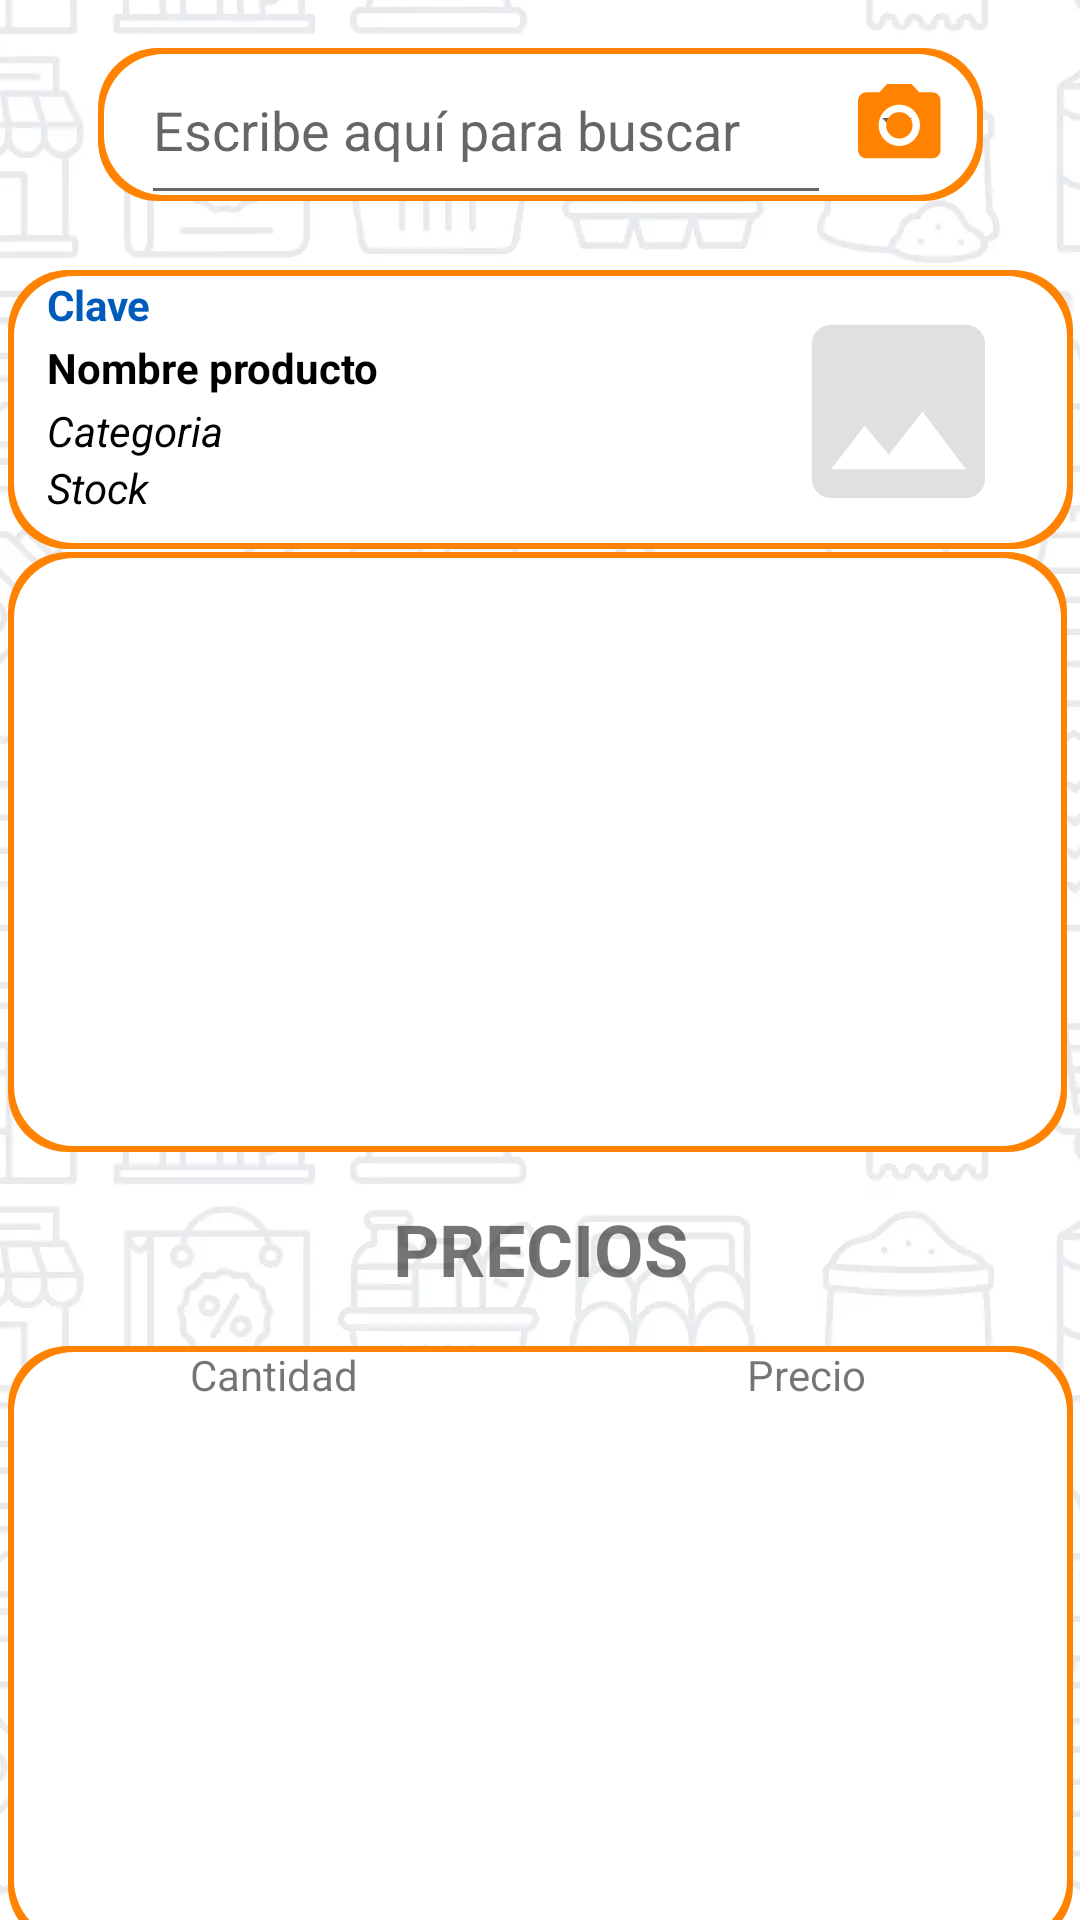

Where icons sit on this 1080 x 1920 app screen, as (x1, y1, x2, y2):
camara verificador: (858, 84, 941, 159)
